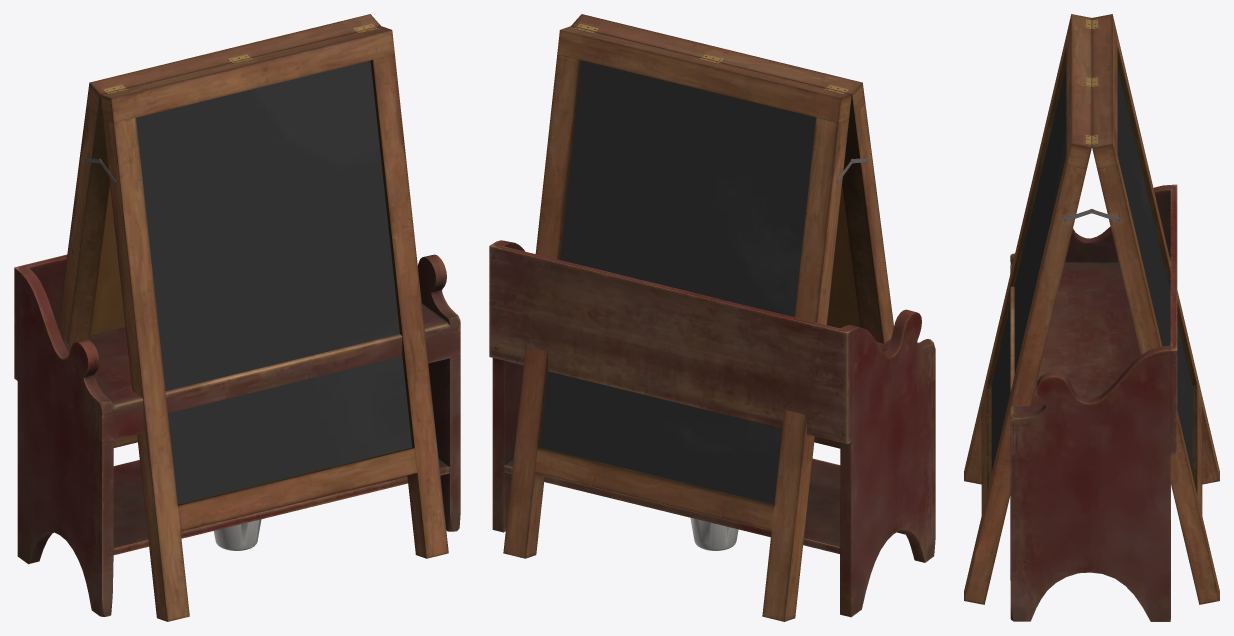
The model's file is hall.glb.
3 views of the same model, side by side, from view 1: azimuth 30°, elevation 25°; view 2: azimuth 150°, elevation 25°; view 3: azimuth 270°, elevation 25° (orthographic). The views are drawn at different scales.
Parts seen in each view (by area): view 1: standing_chalkboard_01, painted_wooden_bench, potted_plant_04_pot; view 2: standing_chalkboard_01, painted_wooden_bench, potted_plant_04_pot; view 3: painted_wooden_bench, standing_chalkboard_01.
Boxes of the visible parts, x1,y1,x2,y2 form: standing_chalkboard_01: (53,14,448,621); painted_wooden_bench: (14,254,460,616); potted_plant_04_pot: (213,519,261,550); standing_chalkboard_01: (503,14,905,621); painted_wooden_bench: (489,240,935,617); potted_plant_04_pot: (690,517,738,550); painted_wooden_bench: (1010,184,1177,621); standing_chalkboard_01: (964,14,1219,604).
Size of the model in its own units: 1.16 by 1.51 by 0.7587.
Materials: 4 (4 with a texture image).
